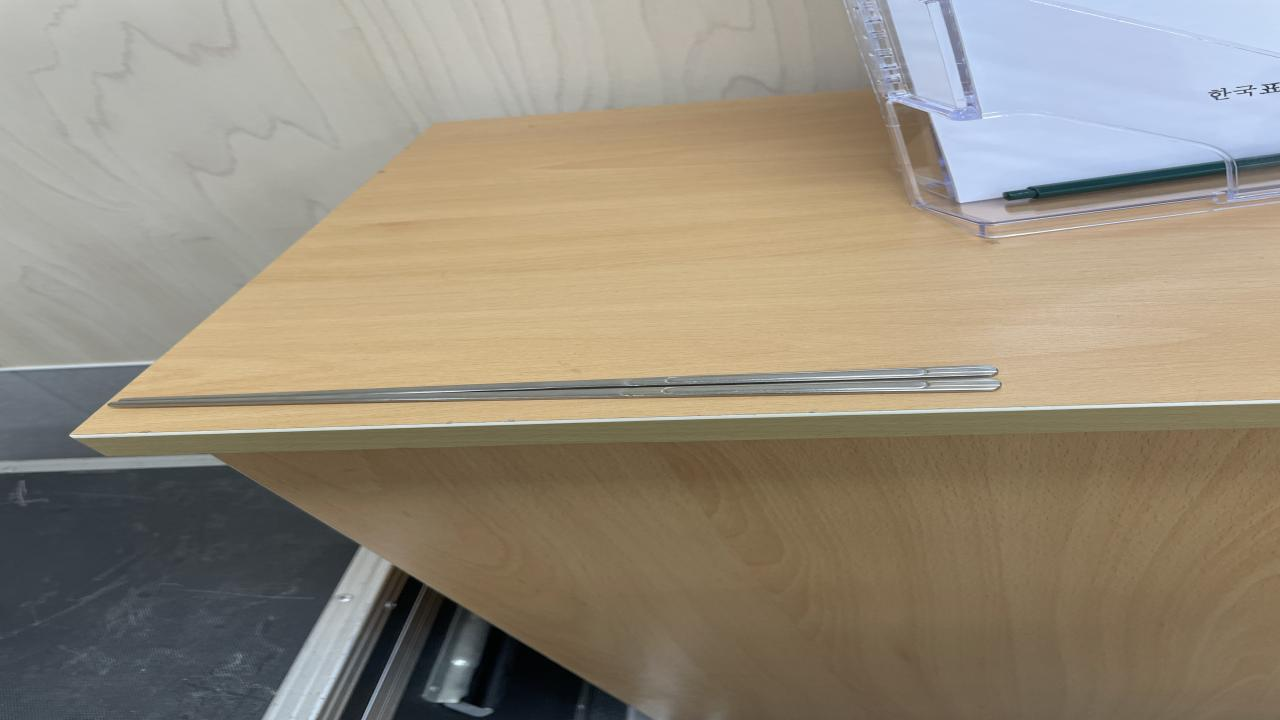chopstick: (100, 366, 1003, 413)
